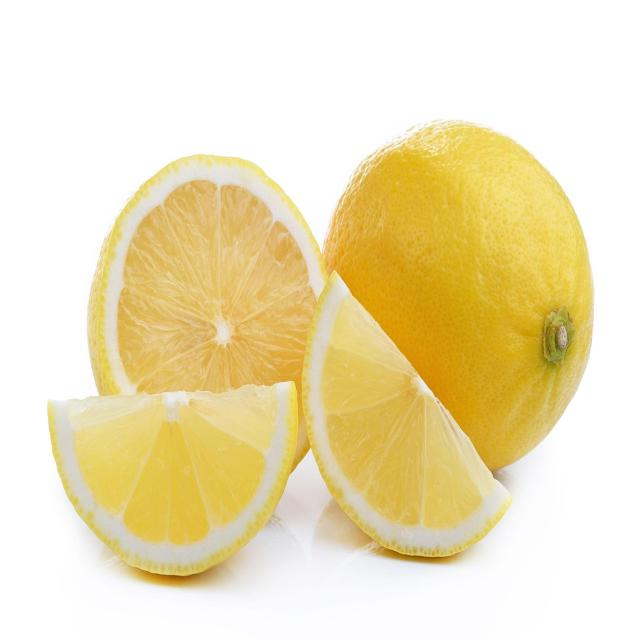lemon: (316, 112, 599, 487), (42, 375, 302, 582)
